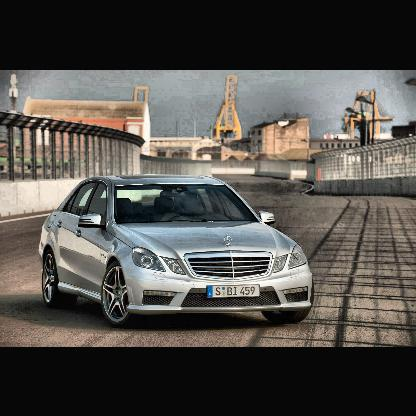Mercedes-Benz E-Class Sedan 2012: (39, 175, 316, 328)
